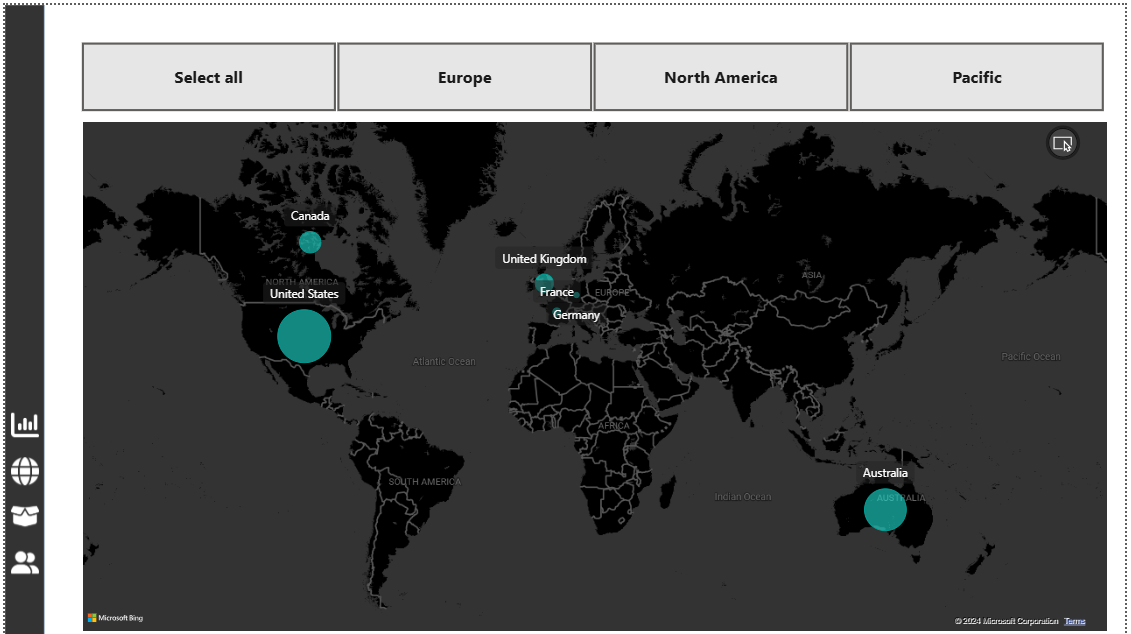

The page's visual inventory and layout, read from the dashboard file:
{"tool":"powerbi","page":{"name":"Map","canvas":[1280,720],"ordinal":1},"visuals":[{"type":"shape","box":[0,0,45,720],"z":0},{"type":"map","title":"Orders by Country","fields":{"Category":["Territory Lookup.Country"],"Size":["Measure Table.Total Orders"]},"box":[83.8,128.8,1180,591.2],"z":1000},{"type":"slicer","fields":{"Values":["Territory Lookup.Continent"]},"box":[61.2,36.2,1218.8,92.5],"z":2000},{"type":"actionButton","box":[2.8,459.9,45,40],"z":3000},{"type":"actionButton","box":[2.8,564.9,45,40],"z":4000},{"type":"actionButton","box":[2.8,512.4,45,40],"z":5000},{"type":"actionButton","box":[2.8,617.4,45,40],"z":6000}]}

Visuals, with their boxes in screenshot pixels (x1, y1, x2, y2):
shape: box(3, 6, 42, 630)
"Orders by Country" map: box(76, 118, 1099, 630)
slicer - Territory Lookup.Continent: box(56, 37, 1113, 118)
actionButton: box(5, 405, 44, 439)
actionButton: box(5, 496, 44, 531)
actionButton: box(5, 450, 44, 485)
actionButton: box(5, 541, 44, 576)
